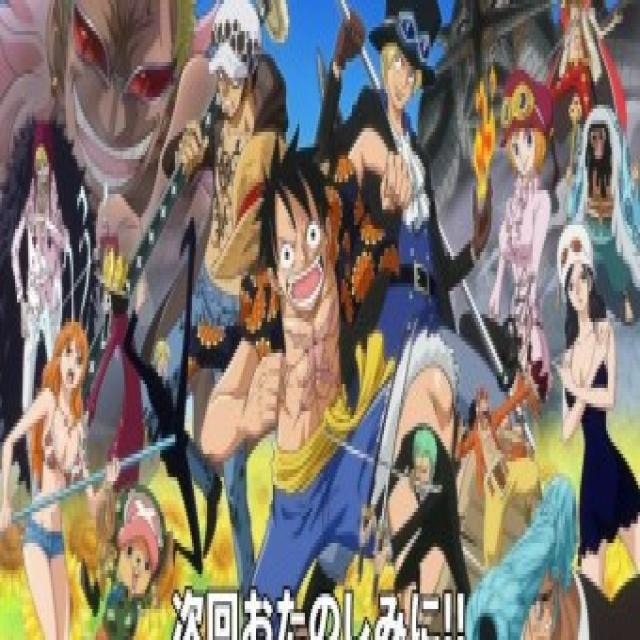Chyopa: (76, 473, 170, 640)
Franky: (465, 473, 576, 640)
Luffy: (256, 131, 342, 321)
Nami: (43, 320, 97, 426)
NicoRobin: (557, 214, 598, 338)
Zoro: (407, 417, 448, 505)
